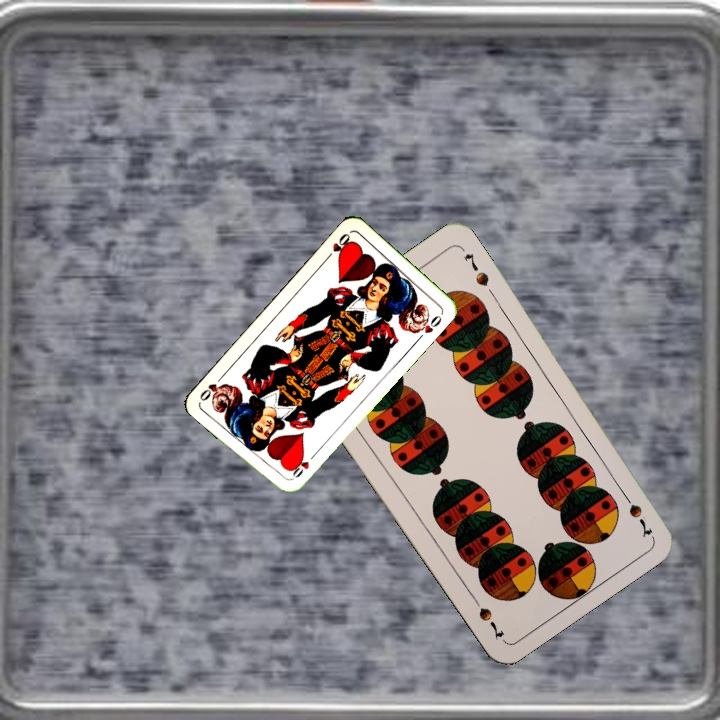HO: (322, 229, 354, 262), (286, 453, 312, 483)
S7: (616, 486, 655, 540)
